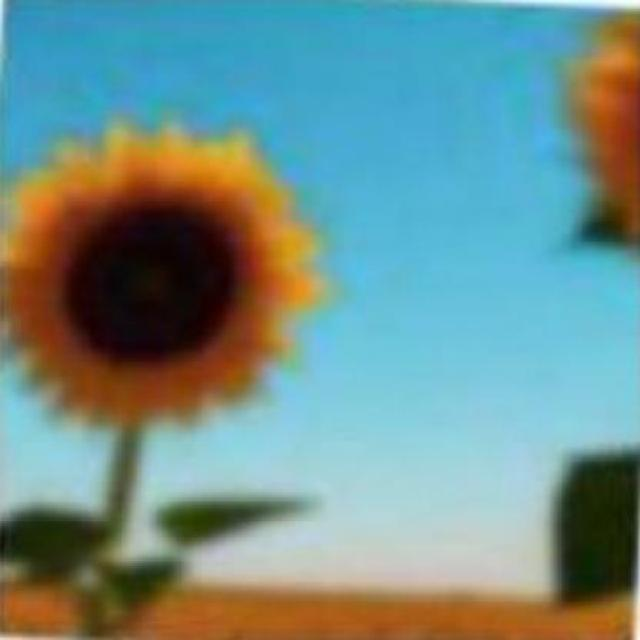sunflower: (5, 110, 324, 448)
